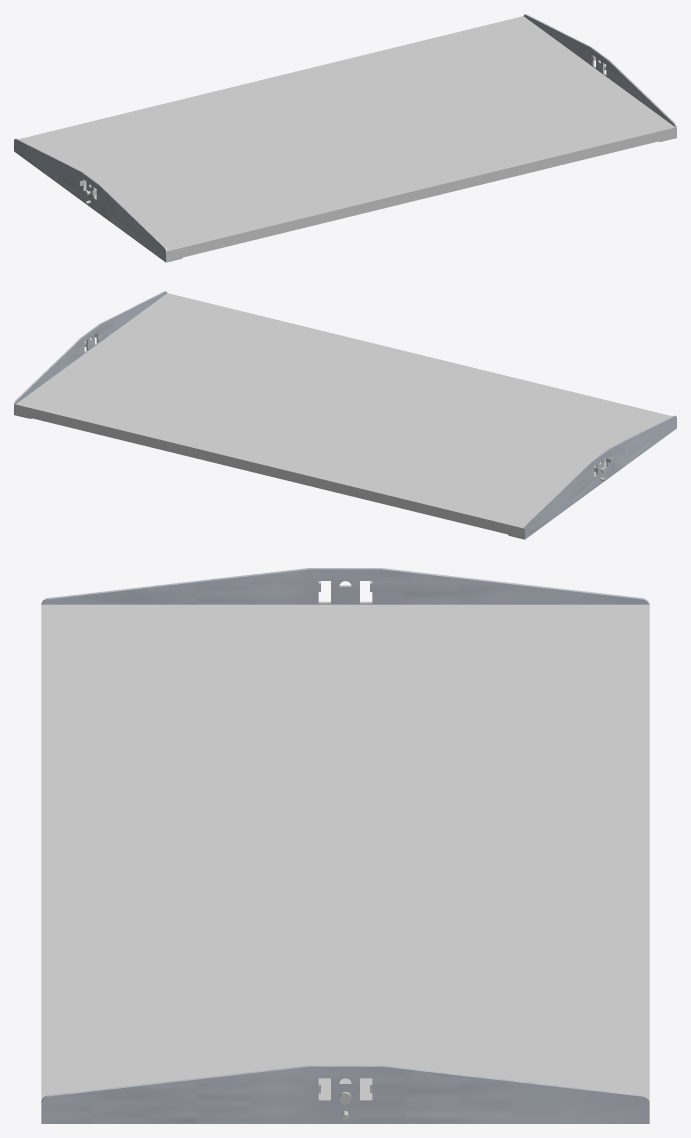
Rendered from JP-WOOD-SHELF.glb.
3 views of the same model, one above another, from view 1: azimuth 30°, elevation 25°; view 2: azimuth 150°, elevation 25°; view 3: azimuth 270°, elevation 25° (orthographic). The views are drawn at different scales.
Visible parts, largest first — view 1: Geom3D_组件#15, Geom3D; view 2: Geom3D_组件#15, Geom3D; view 3: Geom3D_组件#15, Geom3D.
Part boxes in pixels (x1,y1,x2,y2): Geom3D_组件#15: (19,16,675,260); Geom3D: (14,14,676,262); Geom3D_组件#15: (15,293,671,537); Geom3D: (14,291,676,539); Geom3D_组件#15: (41,581,649,1120); Geom3D: (41,568,649,1123).
Size of the model in its own units: 0.985 by 0.052 by 0.5.
Materials: 1 (1 with a texture image).
